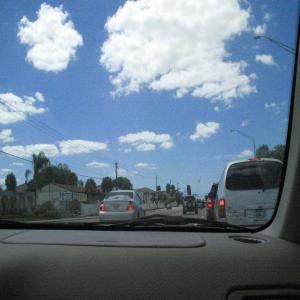Vehicle-registration-plate: (254, 211, 269, 223), (115, 206, 121, 212)
